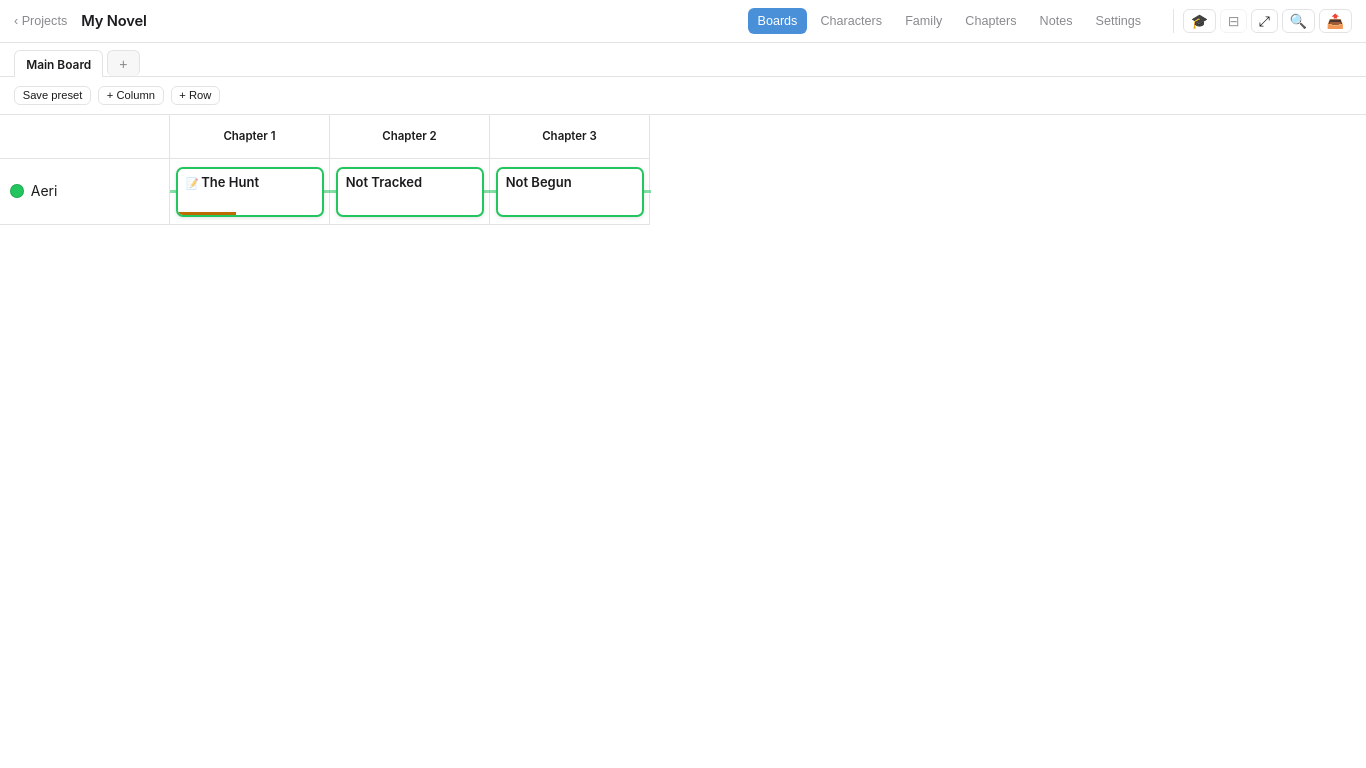
Scenario: % complete dropdown › keeps a hand-written off-step value as its own option
Expected: the heading "My Novel" is shown, [81,12,147,30]
What coordinates should you click on to do the following:
click the text "The Hunt"
I would click on:
 (222, 182)
Its box is [186,174,259,190].
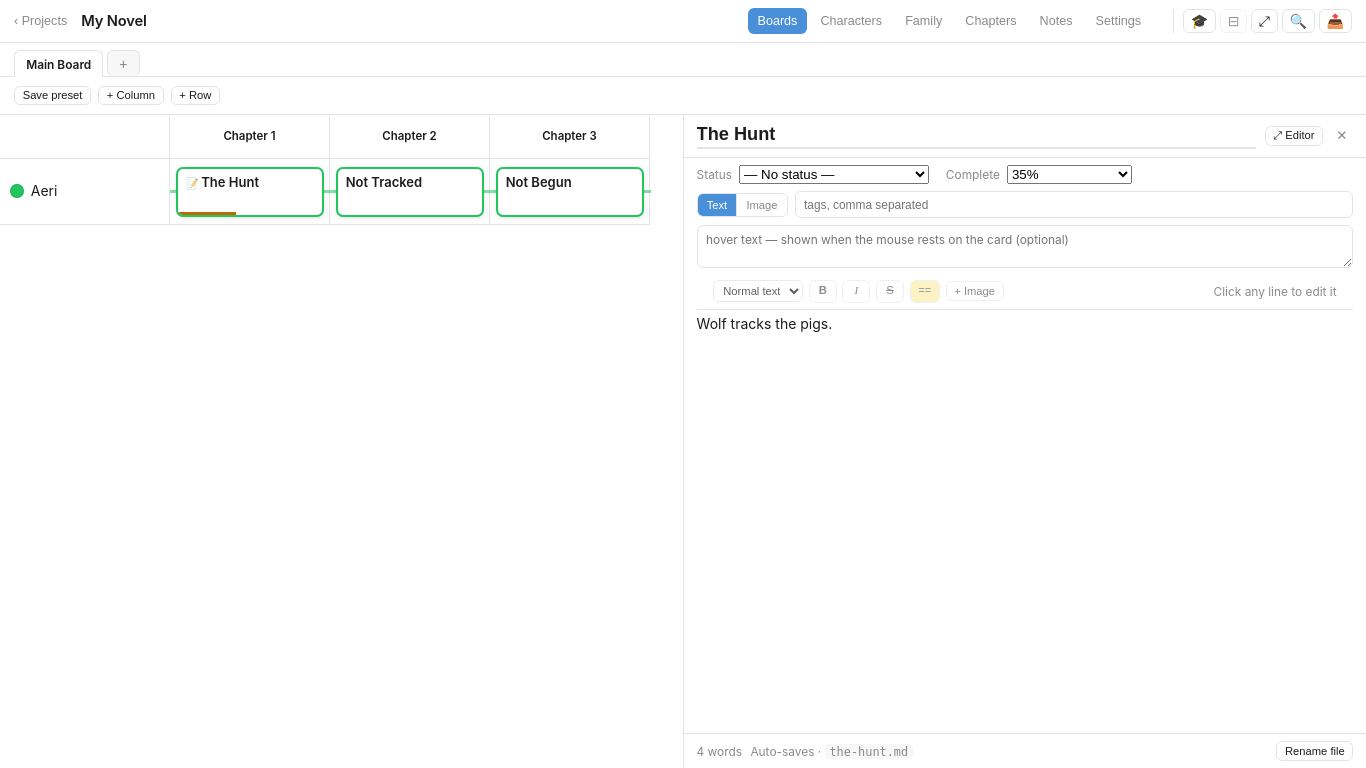
Now the dropdown named "% complete" shows "35%", box [1007,165,1132,184]
